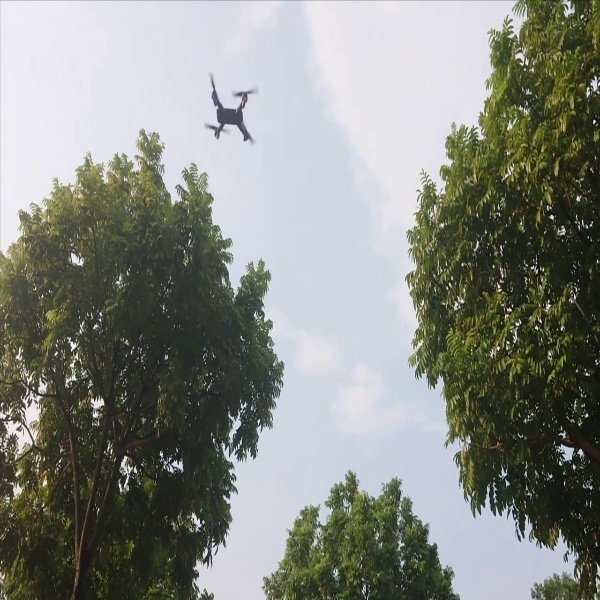drone: (199, 66, 258, 146)
